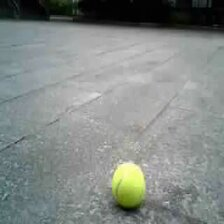tennis: (113, 162, 146, 205)
